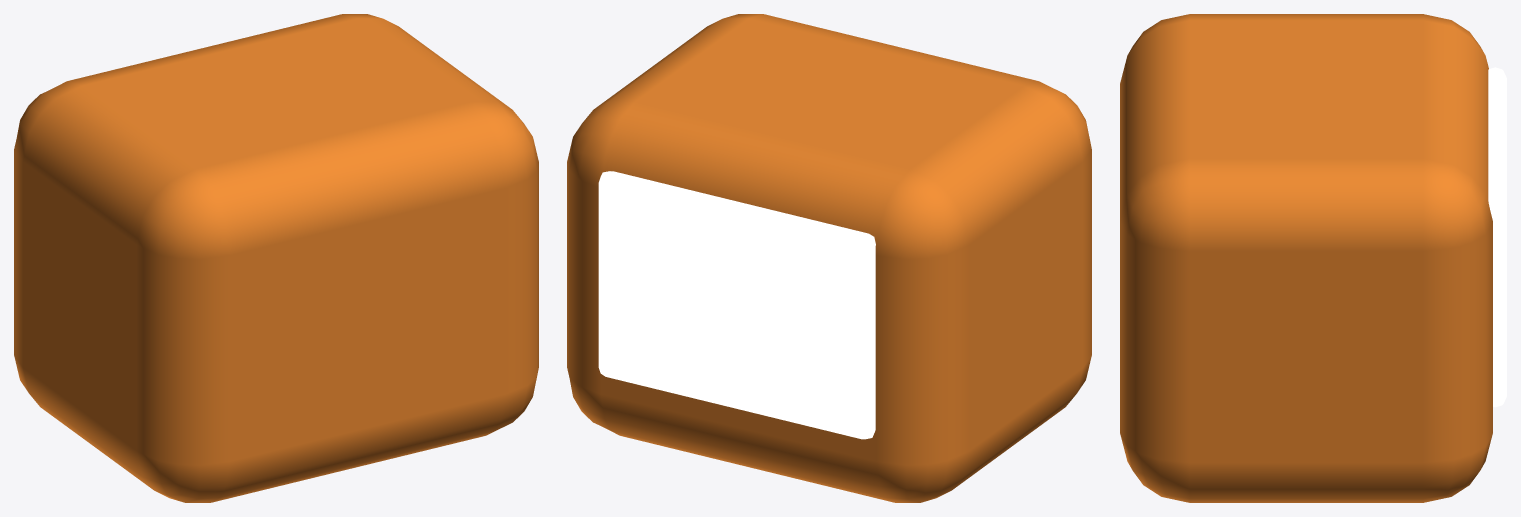
The model's file is fallback_tele.glb.
3 views of the same model, side by side, from view 1: azimuth 30°, elevation 25°; view 2: azimuth 150°, elevation 25°; view 3: azimuth 270°, elevation 25° (orthographic). The views are drawn at different scales.
Visible parts, largest first — view 1: fallback_tele; view 2: fallback_tele; view 3: fallback_tele.
Boxes of the visible parts, x1,y1,x2,y2 form: fallback_tele: [14, 14, 538, 502]; fallback_tele: [567, 14, 1091, 502]; fallback_tele: [1120, 14, 1506, 502].
Bounding box in the file's own units: 0.2 × 0.16 × 0.166.
